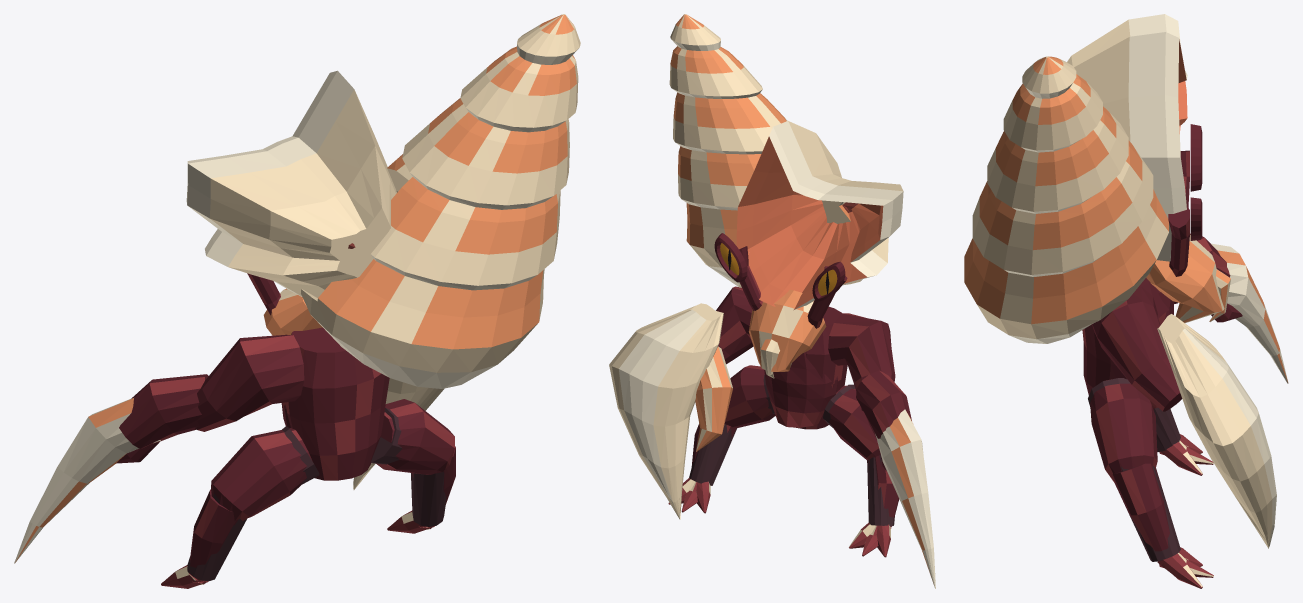
Rendered from failed-lowpoly-v2.glb.
3 views of the same model, side by side, from view 1: azimuth 30°, elevation 25°; view 2: azimuth 150°, elevation 25°; view 3: azimuth 270°, elevation 25° (orthographic). The views are drawn at different scales.
Visible parts, largest first — view 1: Broad tilted faceted conch whorls, Thick flared shell aperture and recessed throat, Tapered ventral torso, Shoulder and elbow 1, Broad hooked thigh 1, Long right conch rapier, Right forearm cuff, Broad hooked thigh -1, Hind leg flexible hinge -1, Shin blade 1, Hind leg flexible hinge 1, Continuous arrowhead face (+1 smaller); view 2: Thick flared shell aperture and recessed throat, Broad tilted faceted conch whorls, Flattened thick tapered shield claw, Long right conch rapier, Continuous arrowhead face, Shoulder and elbow 1, Continuous folded breastplate, Left opposed pincer, Right forearm cuff, Broad hooked thigh -1, Broad hooked thigh 1, Shoulder and elbow -1 (+9 smaller); view 3: Broad tilted faceted conch whorls, Thick flared shell aperture and recessed throat, Flattened thick tapered shield claw, Shoulder and elbow -1, Broad hooked thigh -1, Continuous arrowhead face, Shin blade -1, Long right conch rapier, Tapered ventral torso, Eyestalk -1, Hind leg flexible hinge -1, Open almond orbital rim 1 (+5 smaller).
Boxes of the visible parts, x1,y1,x2,y2 form: Broad tilted faceted conch whorls: (301,14,580,388); Thick flared shell aperture and recessed throat: (186,70,396,298); Tapered ventral torso: (282,327,389,480); Shoulder and elbow 1: (195,334,304,431); Broad hooked thigh 1: (211,428,312,520); Long right conch rapier: (14,398,160,563); Right forearm cuff: (119,374,208,448); Broad hooked thigh -1: (376,399,454,474); Hind leg flexible hinge -1: (371,408,446,526); Shin blade 1: (190,489,237,567); Hind leg flexible hinge 1: (187,426,319,581); Continuous arrowhead face: (263,288,322,335); Thick flared shell aperture and recessed throat: (736,121,903,310); Broad tilted faceted conch whorls: (669,14,862,287); Flattened thick tapered shield claw: (609,303,723,519); Long right conch rapier: (875,409,935,588); Continuous arrowhead face: (748,289,826,371); Shoulder and elbow 1: (828,313,895,410); Continuous folded breastplate: (764,351,837,427); Left opposed pincer: (695,346,732,451); Right forearm cuff: (856,370,911,438); Broad hooked thigh -1: (724,365,775,427); Broad hooked thigh 1: (829,385,880,459); Shoulder and elbow -1: (716,286,753,364); Broad tilted faceted conch whorls: (964,56,1168,343); Thick flared shell aperture and recessed throat: (1067,14,1187,261); Flattened thick tapered shield claw: (1157,314,1276,548); Shoulder and elbow -1: (1092,286,1182,411); Broad hooked thigh -1: (1090,380,1157,482); Continuous arrowhead face: (1146,235,1224,322); Shin blade -1: (1112,463,1169,561); Long right conch rapier: (1211,243,1288,383); Tapered ventral torso: (1082,278,1166,409); Eyestalk -1: (1168,206,1189,276); Hind leg flexible hinge -1: (1088,378,1180,561); Open almond orbital rim 1: (1190,124,1202,191).
Size of the model in its own units: 2.77 by 3.23 by 1.7.
